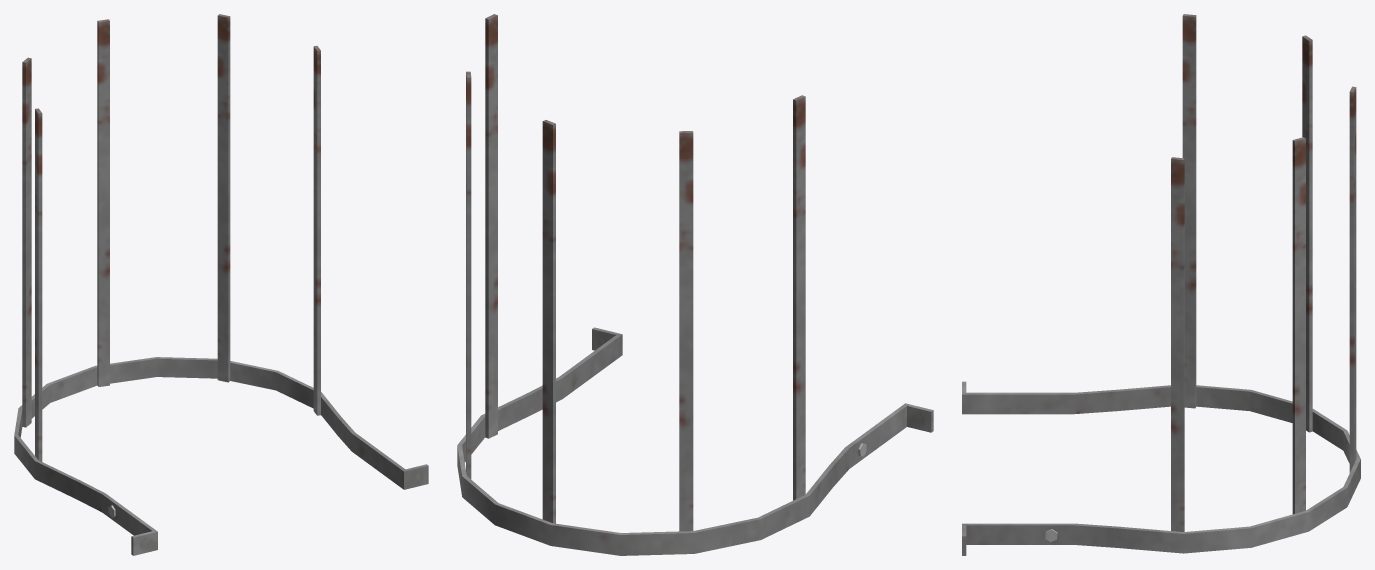
Rendered from CageLadderSection.fbx.
3 views of the same model, side by side, from view 1: azimuth 30°, elevation 25°; view 2: azimuth 150°, elevation 25°; view 3: azimuth 270°, elevation 25° (orthographic). The views are drawn at different scales.
Parts seen in each view (by area): view 1: Cage_Ladder_Section_LOD0; view 2: Cage_Ladder_Section_LOD0; view 3: Cage_Ladder_Section_LOD0.
Part boxes in pixels (bbox=[...]): Cage_Ladder_Section_LOD0: bbox=[14, 14, 428, 555]; Cage_Ladder_Section_LOD0: bbox=[457, 14, 933, 555]; Cage_Ladder_Section_LOD0: bbox=[962, 14, 1360, 555].
Size of what is drawn, in the model's own units: 0.8472 by 1 by 0.9229.
